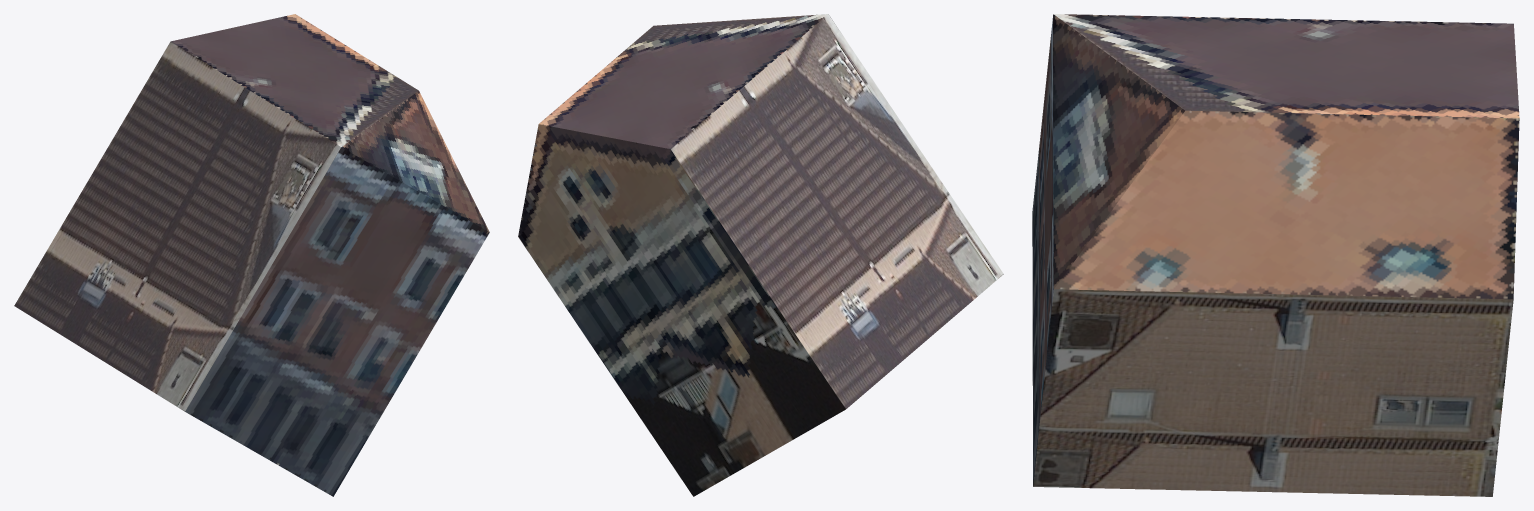
3 renders of one model, left to right at view 1: azimuth 30°, elevation 25°; view 2: azimuth 150°, elevation 25°; view 3: azimuth 270°, elevation 25°, orthographic. The views are drawn at different scales.
Visible parts, largest first — view 1: BAG_0599100000760394; view 2: BAG_0599100000760394 (×2); view 3: BAG_0599100000760394 (×2).
Part boxes in pixels (x1,y1,x2,y2): BAG_0599100000760394: [14, 14, 489, 496]; BAG_0599100000760394 (×2): [518, 14, 1003, 496]; BAG_0599100000760394 (×2): [1032, 14, 1519, 496].
Bounding box in the file's own units: 13.42 × 14.07 × 12.44.
3 materials, 3 textured.
